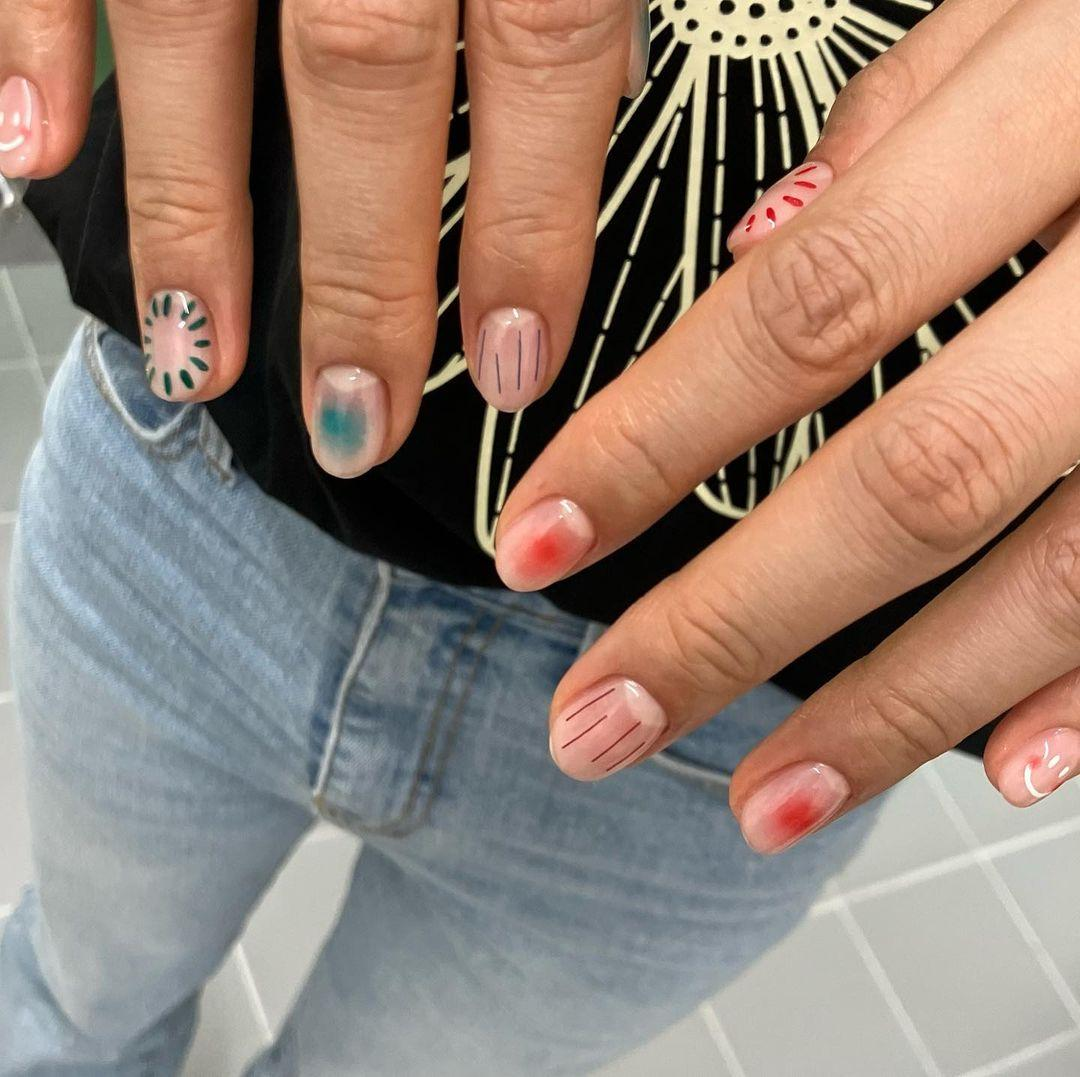nail: (548, 674, 668, 782), (738, 759, 851, 854), (725, 157, 833, 255), (492, 493, 596, 592), (307, 362, 390, 479), (141, 286, 218, 402), (472, 304, 550, 412), (998, 724, 1079, 807), (0, 73, 45, 178)
